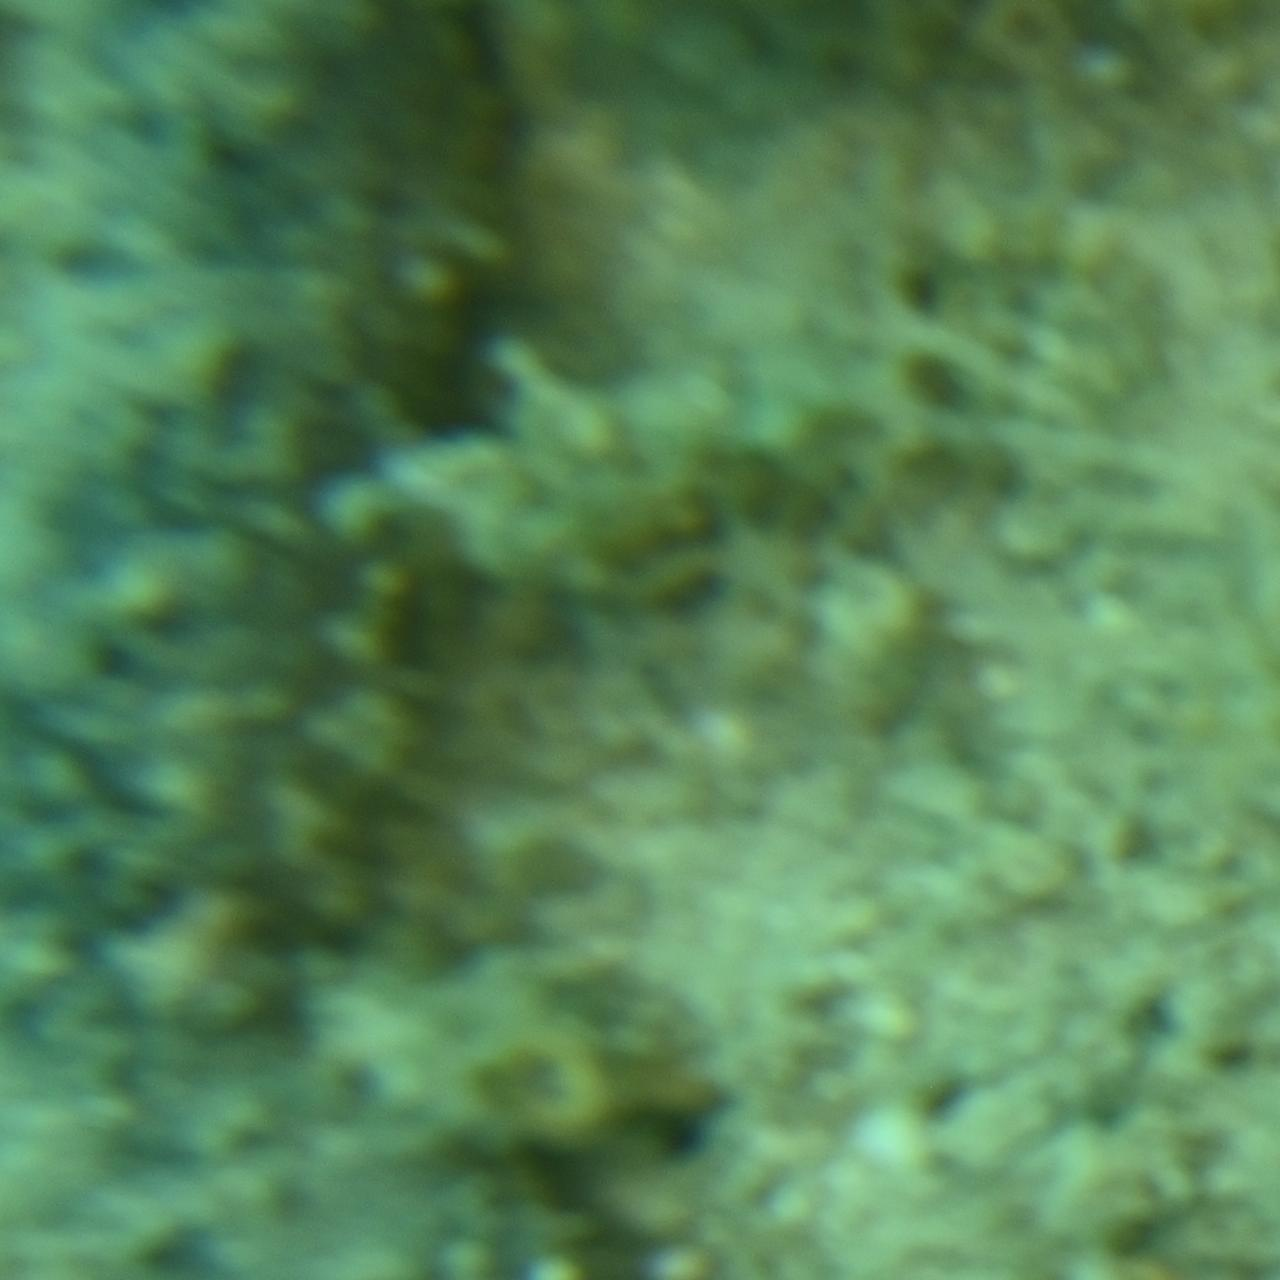Holothuria tubulosa: (0, 0, 727, 1280)
